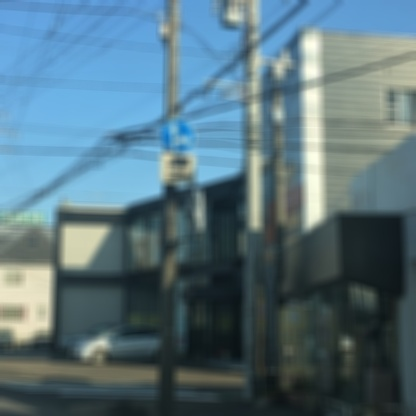Direction_sign: (162, 114, 200, 157)
